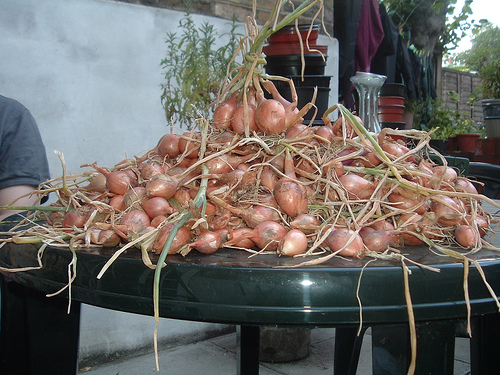onion: (329, 223, 368, 256), (254, 96, 286, 134), (278, 228, 309, 258)
